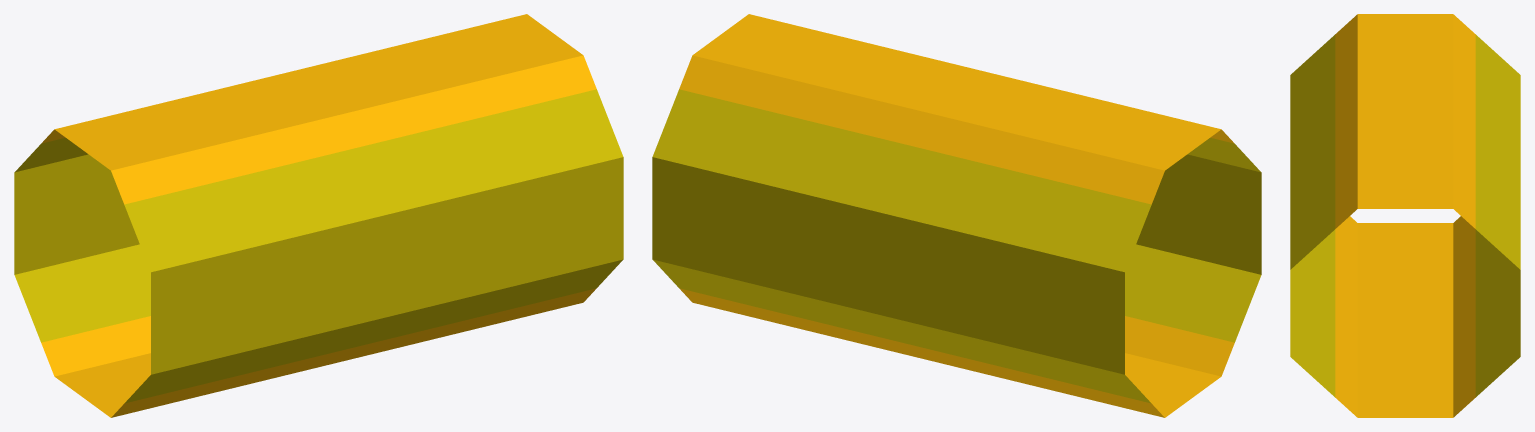
The model's file is fpe_pipe_straight_smooth_label.dae.
The picture shows the model from 3 angles, left to right: view 1: azimuth 30°, elevation 25°; view 2: azimuth 150°, elevation 25°; view 3: azimuth 270°, elevation 25°; orthographic projection. The views are drawn at different scales.
Parts seen in each view (by area): view 1: pipe_straight_smooth_label; view 2: pipe_straight_smooth_label; view 3: pipe_straight_smooth_label.
Boxes of the visible parts, x1,y1,x2,y2 form: pipe_straight_smooth_label: (14,14,623,417); pipe_straight_smooth_label: (652,14,1261,417); pipe_straight_smooth_label: (1290,14,1520,417).
Bounding box in the file's own units: 0.25 × 0.125 × 0.125.
